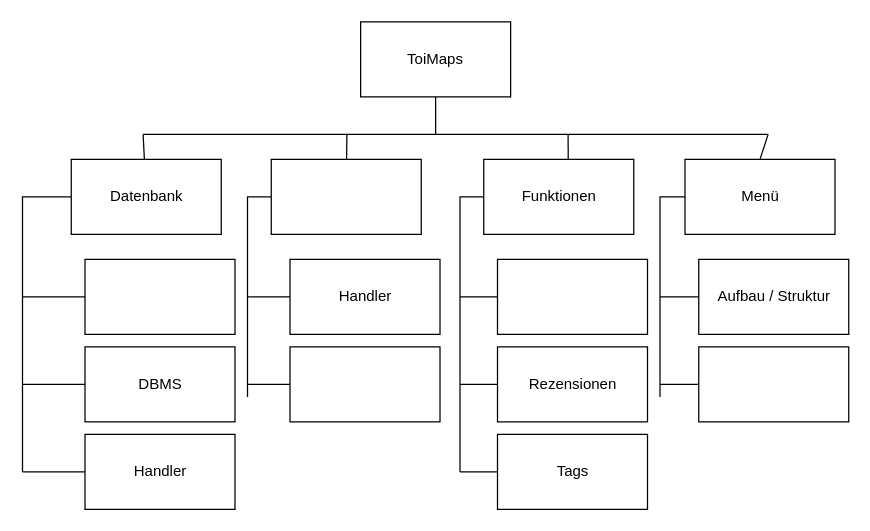
This 870x531 diagram has some shape labels left out. The centre of each missing label's shape, as x and y in pixels:
"API" goes at pixel 345 196.
"Darstellung" goes at pixel 773 384.
"genderinklusive" goes at pixel 572 296.
"Struktur" goes at pixel 159 296.
"Welche?" goes at pixel 364 384.
